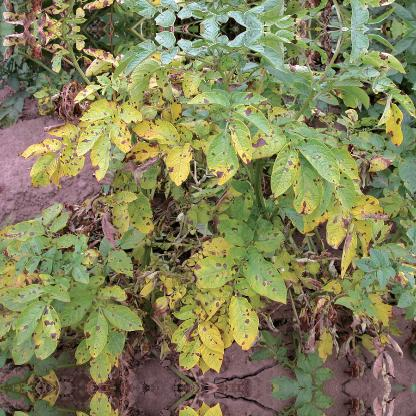Early-Blight: (5, 37, 409, 374)
